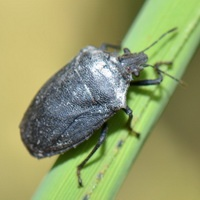insect: (42, 75, 176, 199), (21, 98, 67, 148), (147, 28, 187, 77), (46, 62, 80, 105)
